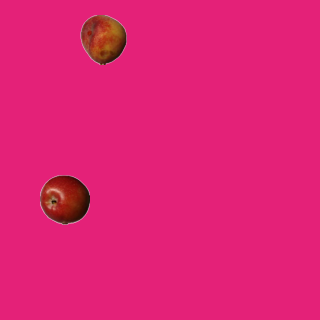Apple Braeburn: (39, 174, 89, 224)
Peach: (78, 14, 128, 64)
